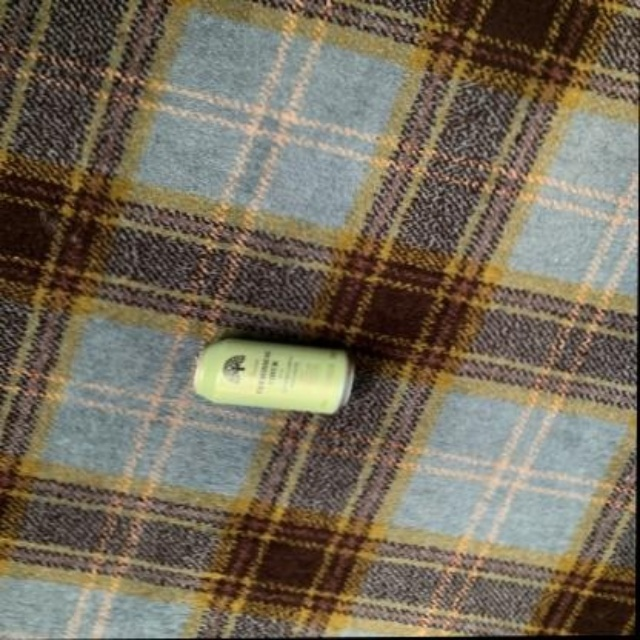trash: (194, 338, 352, 412)
